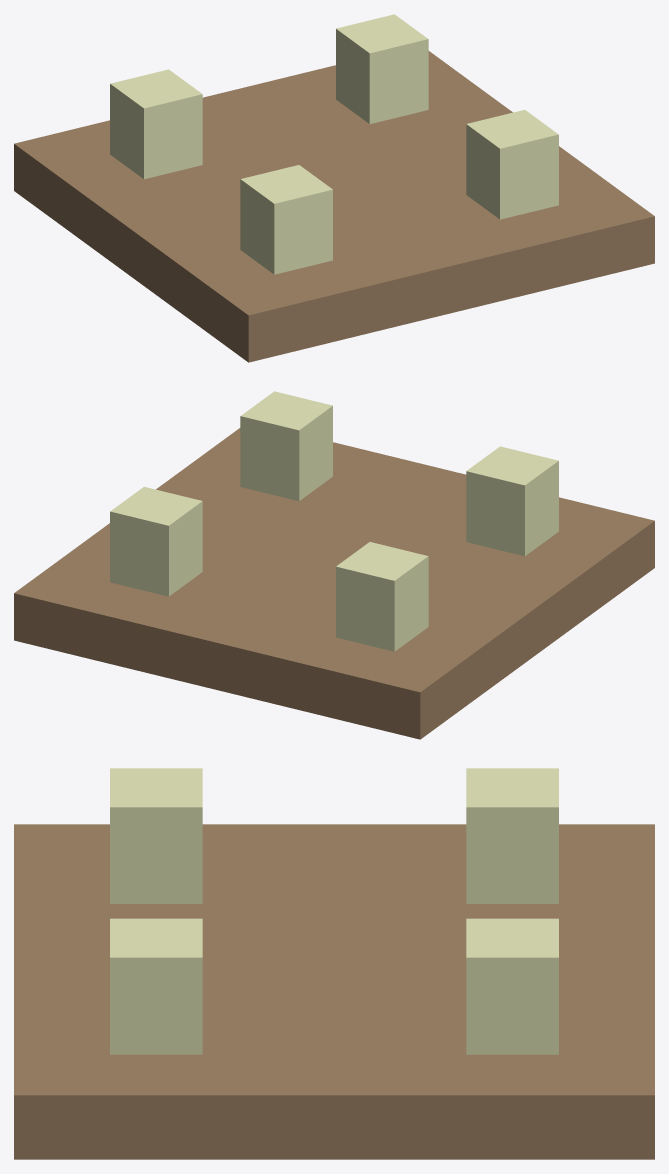
File: Prop_DS_Crop_Spudlet_S1_V2.glb
3 renders of one model, top to bottom at view 1: azimuth 30°, elevation 25°; view 2: azimuth 150°, elevation 25°; view 3: azimuth 270°, elevation 25°, orthographic. The views are drawn at different scales.
Parts seen in each view (by area): view 1: Prop_DS_Crop_Spudlet_S1_V2; view 2: Prop_DS_Crop_Spudlet_S1_V2; view 3: Prop_DS_Crop_Spudlet_S1_V2.
Part boxes in pixels (left/top/right/bottom): Prop_DS_Crop_Spudlet_S1_V2: left=14, top=14, right=654, bottom=362; Prop_DS_Crop_Spudlet_S1_V2: left=14, top=391, right=654, bottom=739; Prop_DS_Crop_Spudlet_S1_V2: left=14, top=768, right=654, bottom=1159.
Bounding box in the file's own units: 0.9 × 0.25 × 0.9.
